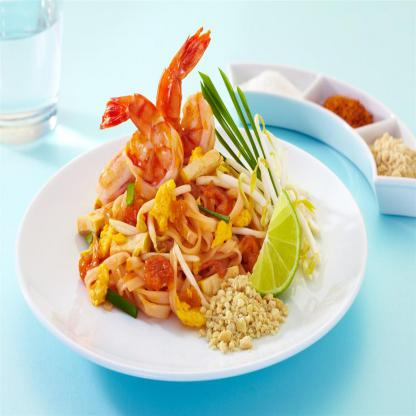Pad Thai: (74, 29, 343, 353)
